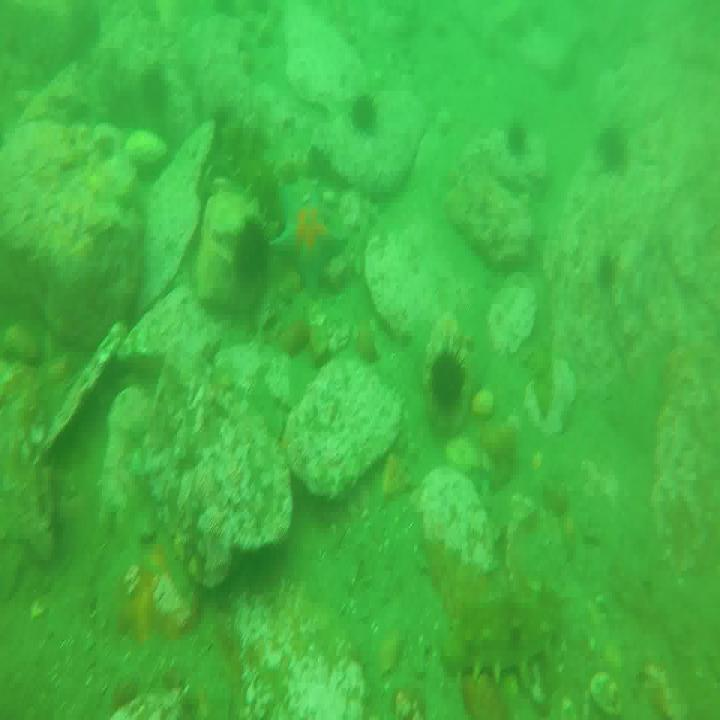echinus: (233, 218, 271, 293), (428, 347, 466, 410), (600, 122, 627, 172), (352, 94, 380, 141), (505, 122, 528, 159)
holothurian: (447, 618, 555, 681)
starfish: (272, 177, 347, 290)
